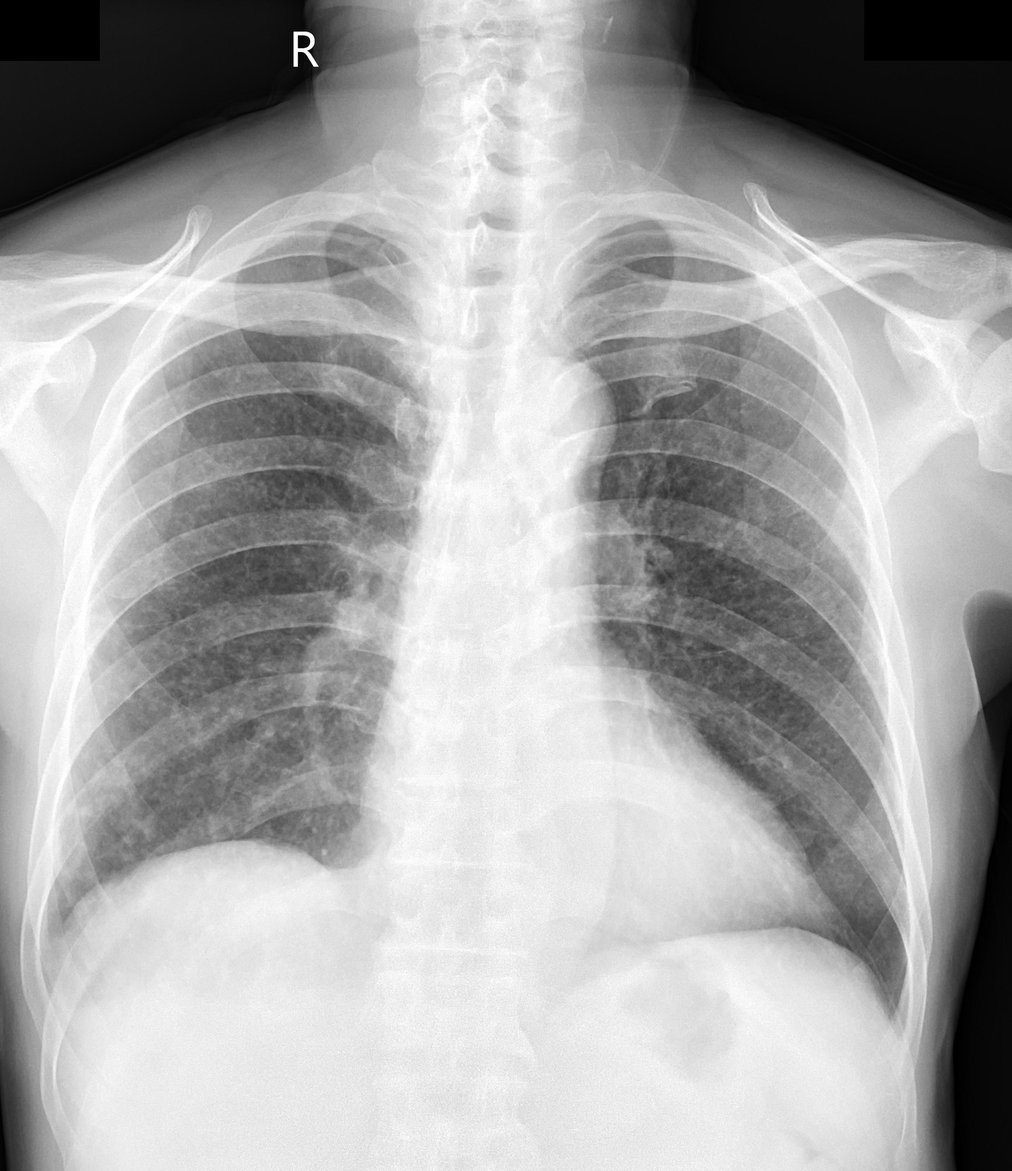Pleural thickening: (21, 896, 88, 986)
